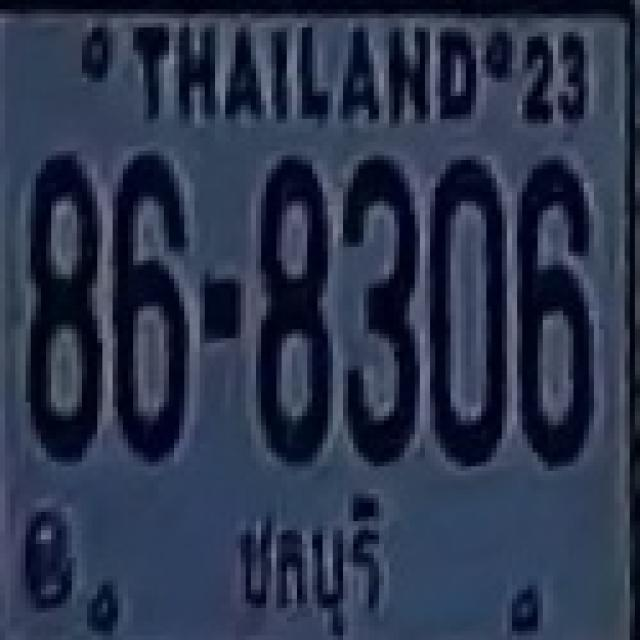0: (424, 154, 511, 481)
3: (333, 154, 429, 473)
6: (515, 155, 606, 483), (114, 144, 198, 476)
8: (15, 149, 112, 466), (254, 153, 338, 472)
CBI: (214, 492, 397, 630)
